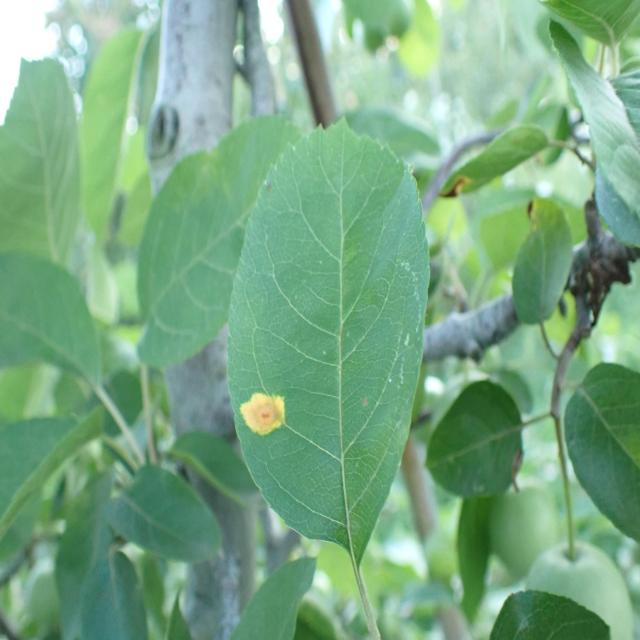Rust: (231, 386, 299, 439)
